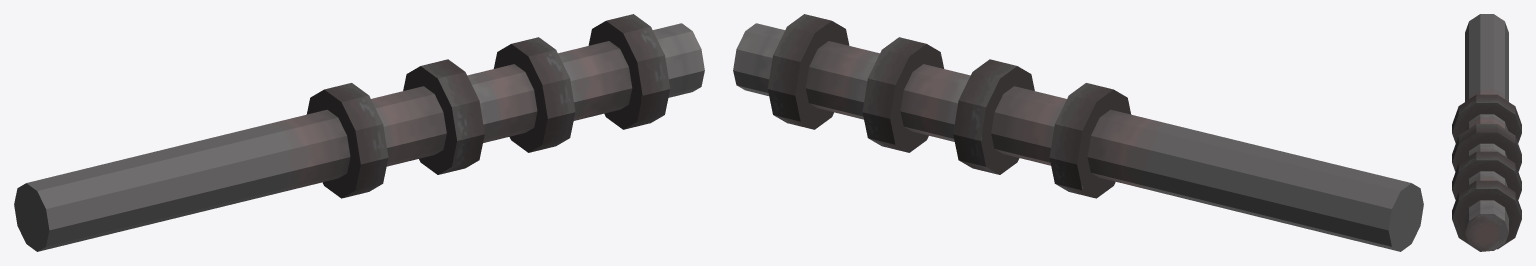
The model's file is Axel.fbx.
3 renders of one model, left to right at view 1: azimuth 30°, elevation 25°; view 2: azimuth 150°, elevation 25°; view 3: azimuth 270°, elevation 25°, orthographic. The views are drawn at different scales.
Parts seen in each view (by area): view 1: Wheel Axel; view 2: Wheel Axel; view 3: Wheel Axel.
Boxes of the visible parts, box(x1,y1,x2,y2) form: Wheel Axel: box(14, 14, 704, 251); Wheel Axel: box(733, 14, 1423, 251); Wheel Axel: box(1452, 14, 1521, 251).
Size of the model in its own units: 514 by 72.31 by 76.03.
